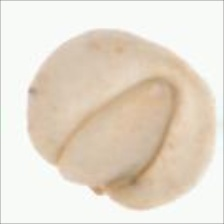L5: (50, 75, 180, 203), (148, 40, 206, 87)
L6: (22, 27, 218, 209)
